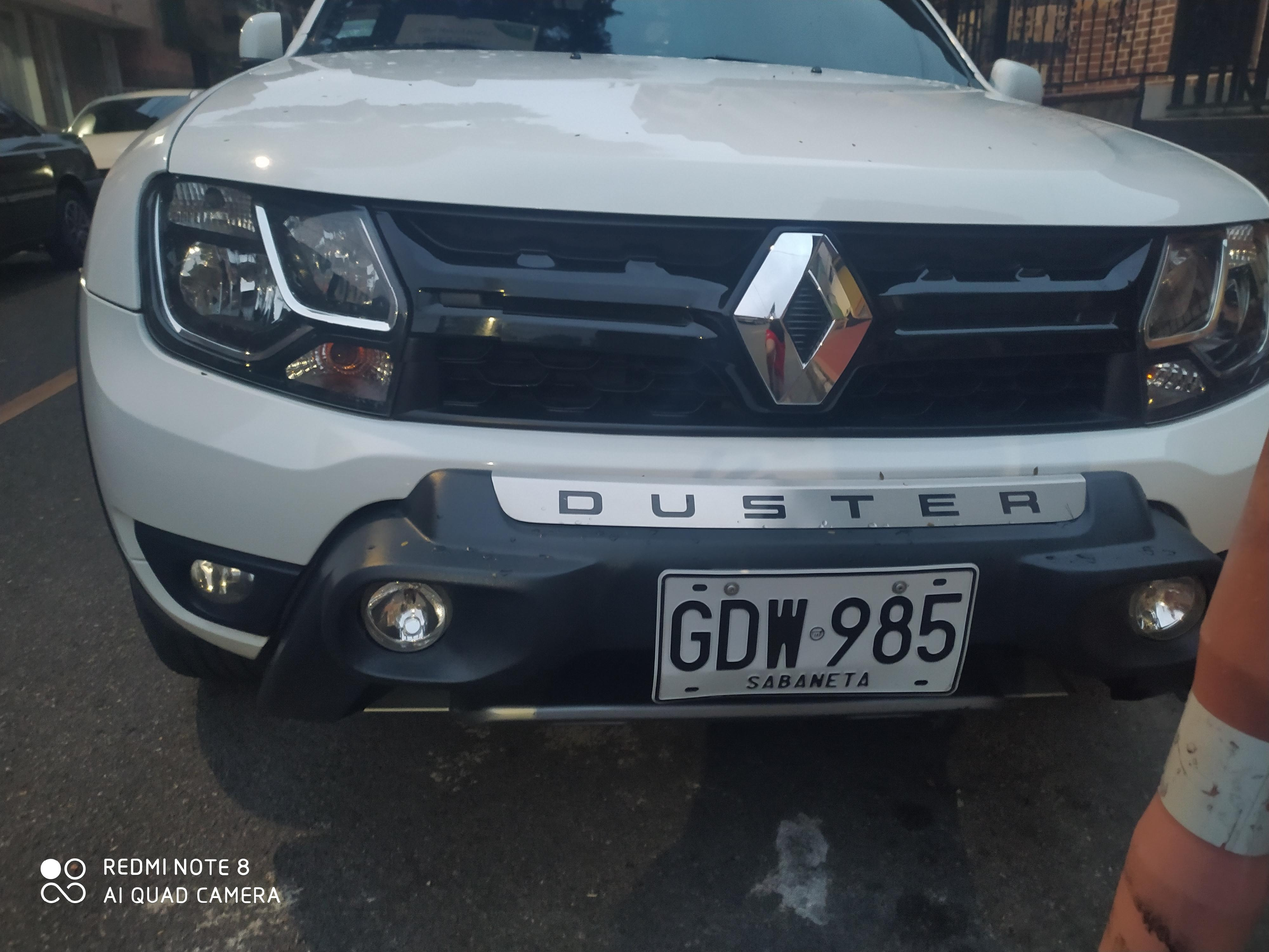placa: (639, 560, 985, 711)
